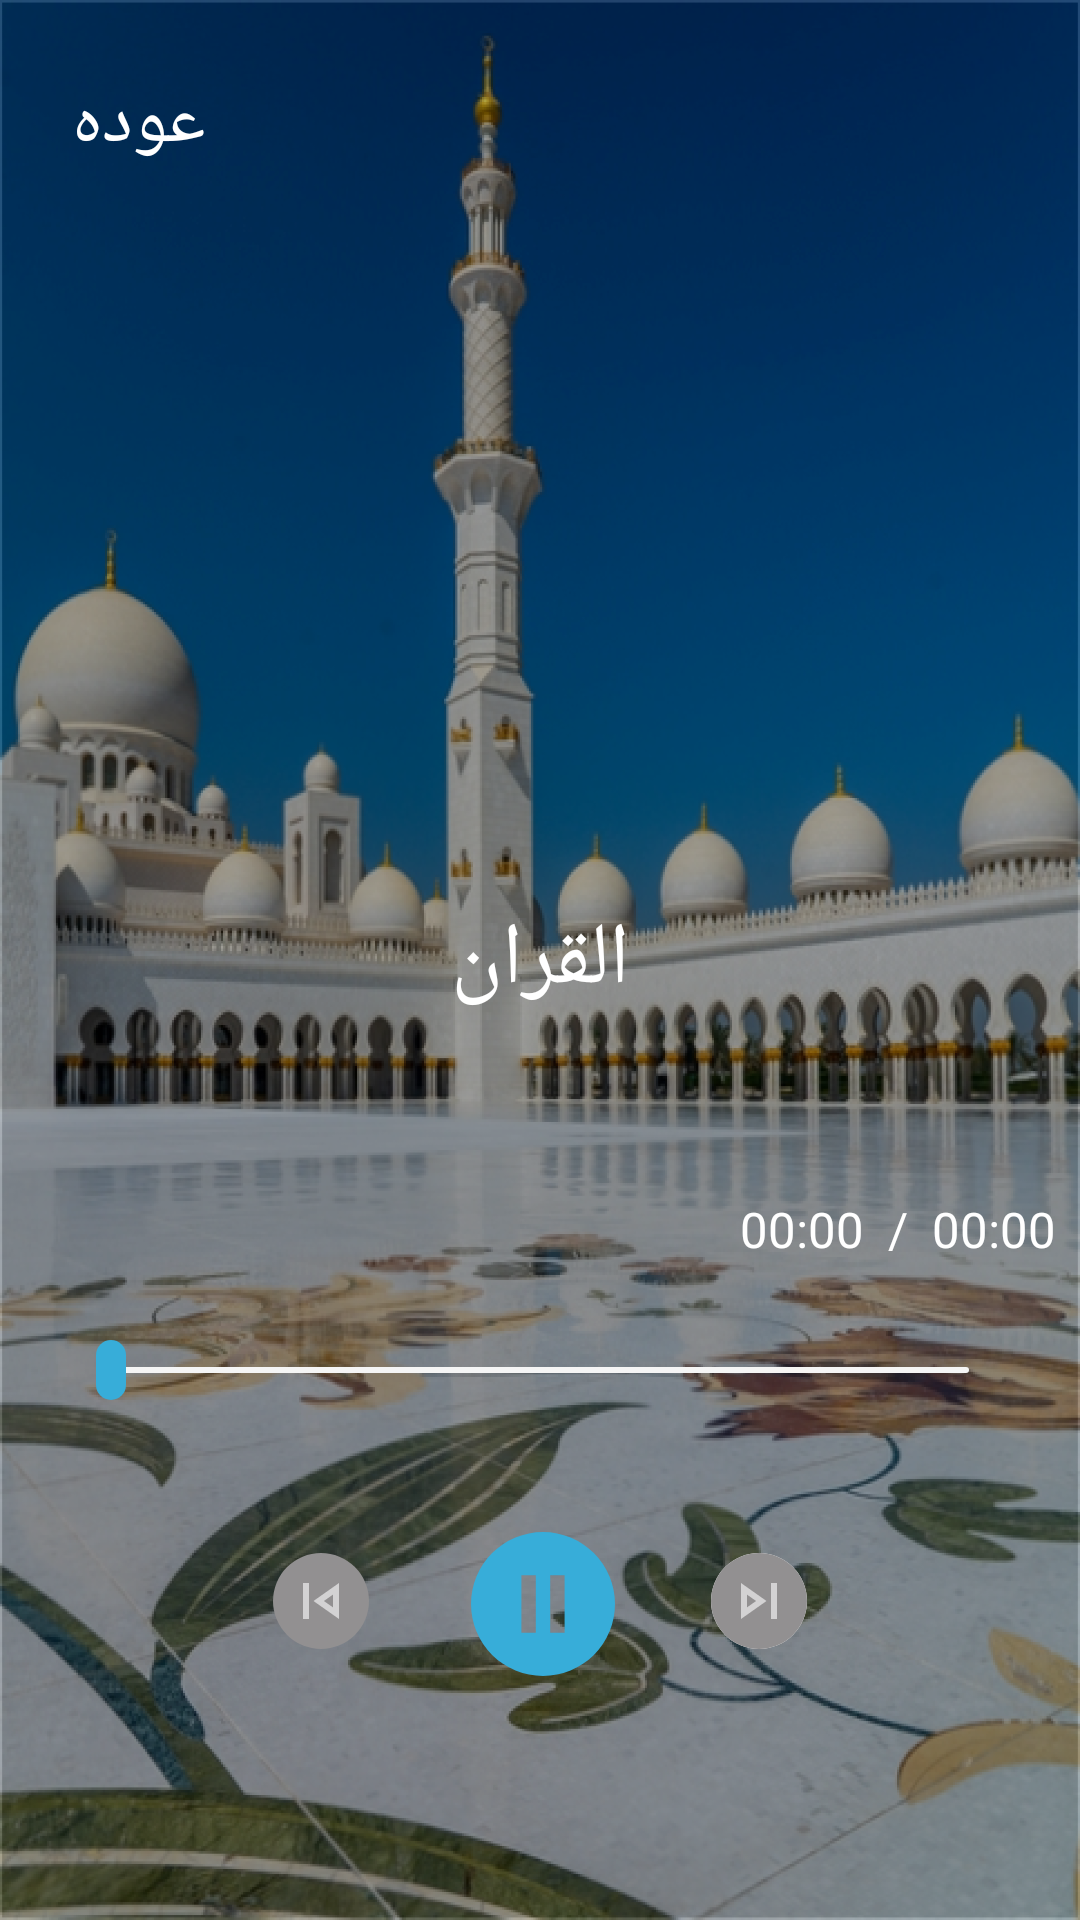

Screen size 1080*1920. Icon name, then its center in pixels as (x=x, y=y):
next shape: (x=759, y=1601)
playing shape: (x=540, y=1601)
prev shape: (x=321, y=1601)
